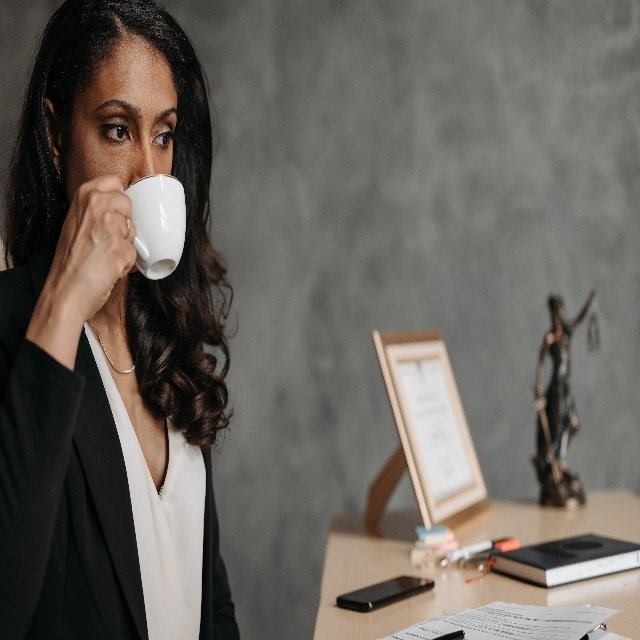Sin_guantes: (41, 176, 137, 313)
